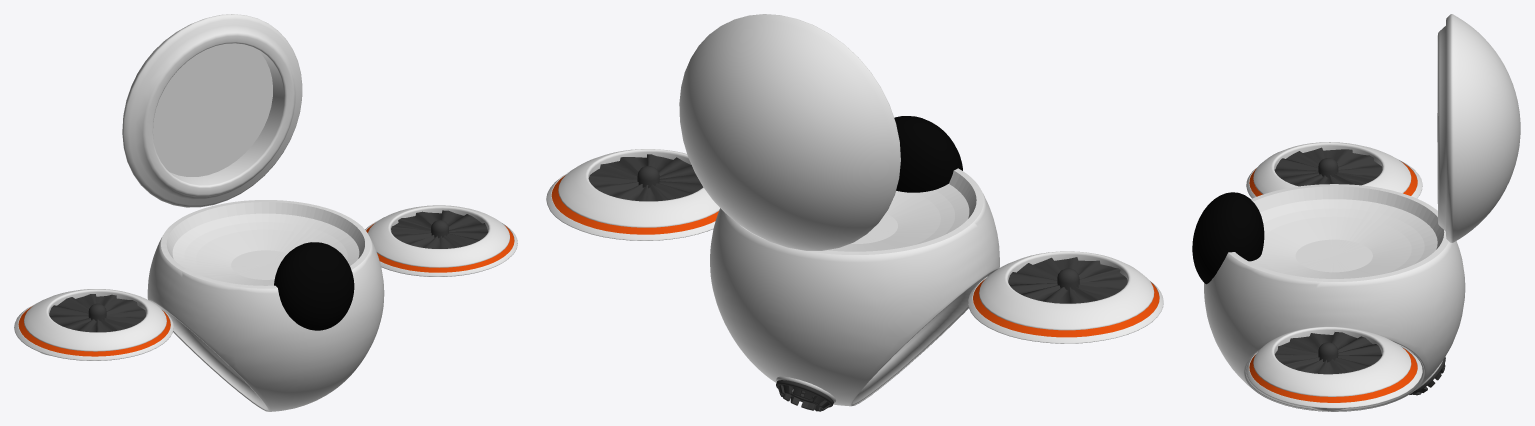
3 views of the same model, side by side, from view 1: azimuth 30°, elevation 25°; view 2: azimuth 150°, elevation 25°; view 3: azimuth 270°, elevation 25° (orthographic). The views are drawn at different scales.
Parts seen in each view (by area): view 1: main_Body, cap, Arm.R, Arm.L, HEAD; view 2: cap, main_Body, Arm.R, Arm.L, HEAD, Reactor; view 3: main_Body, cap, Arm.L, Arm.R, HEAD, Reactor.
Part boxes in pixels (x1=…): main_Body: x1=147, y1=200, x2=384, y2=411; cap: x1=122, y1=14, x2=302, y2=207; Arm.R: x1=14, y1=289, x2=173, y2=360; Arm.L: x1=365, y1=205, x2=517, y2=276; HEAD: x1=274, y1=242, x2=354, y2=330; cap: x1=679, y1=14, x2=900, y2=250; main_Body: x1=710, y1=168, x2=999, y2=406; Arm.R: x1=968, y1=251, x2=1163, y2=343; Arm.L: x1=546, y1=149, x2=719, y2=240; HEAD: x1=894, y1=116, x2=962, y2=192; Reactor: x1=776, y1=376, x2=835, y2=411; main_Body: x1=1204, y1=184, x2=1465, y2=411; cap: x1=1437, y1=14, x2=1520, y2=242; Arm.L: x1=1246, y1=326, x2=1422, y2=411; Arm.R: x1=1246, y1=142, x2=1422, y2=198; HEAD: x1=1192, y1=192, x2=1264, y2=284; Reactor: x1=1409, y1=357, x2=1445, y2=395.
Bounding box in the file's own units: 470 × 322 × 251.
